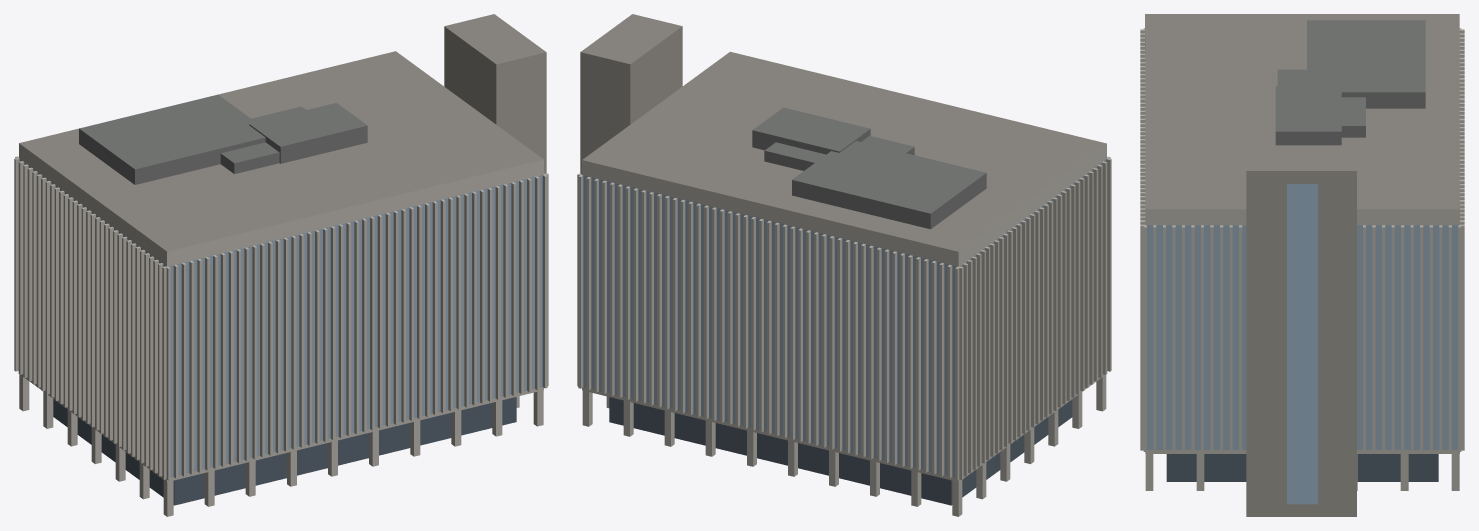
The model's file is southwestern-bell-headquarters.glb.
3 views of the same model, side by side, from view 1: azimuth 30°, elevation 25°; view 2: azimuth 150°, elevation 25°; view 3: azimuth 270°, elevation 25° (orthographic). The views are drawn at different scales.
Parts seen in each view (by area): view 1: southwestern_bell_headquarters; view 2: southwestern_bell_headquarters; view 3: southwestern_bell_headquarters.
Part boxes in pixels (x1,y1,x2,y2): southwestern_bell_headquarters: (14,14,548,516); southwestern_bell_headquarters: (577,14,1111,516); southwestern_bell_headquarters: (1140,14,1464,516).
Size of the model in its own units: 74.82 by 54 by 45.93.
